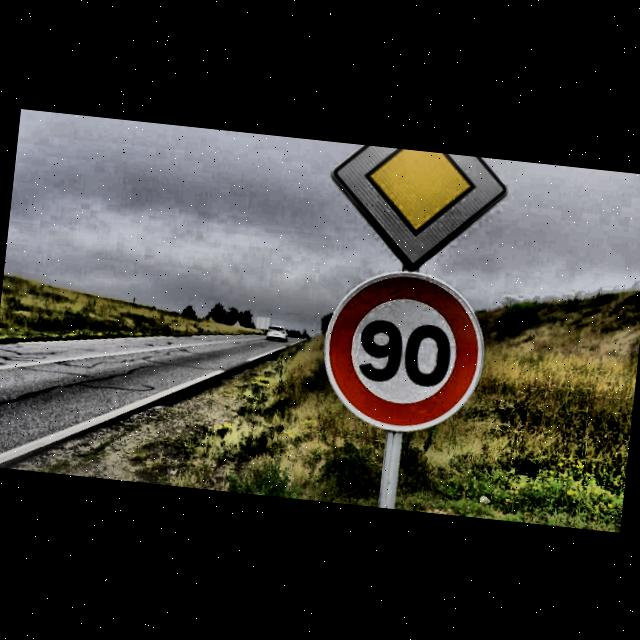speed_90: (314, 260, 493, 438)
